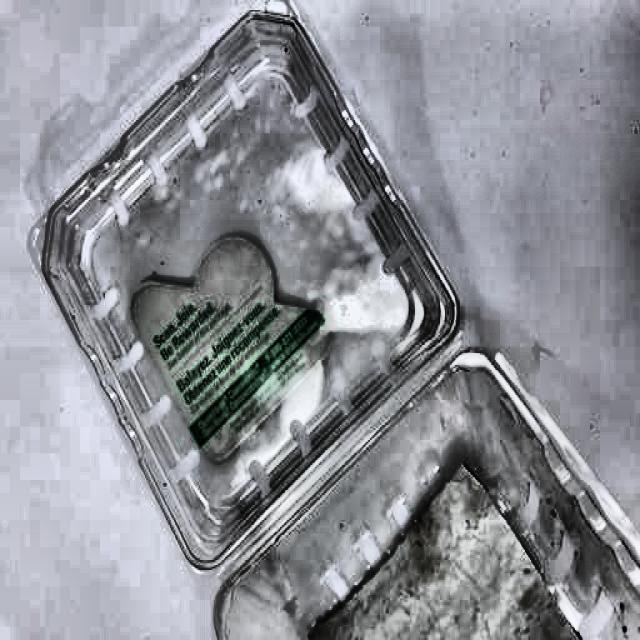plastic: (67, 5, 635, 640)
